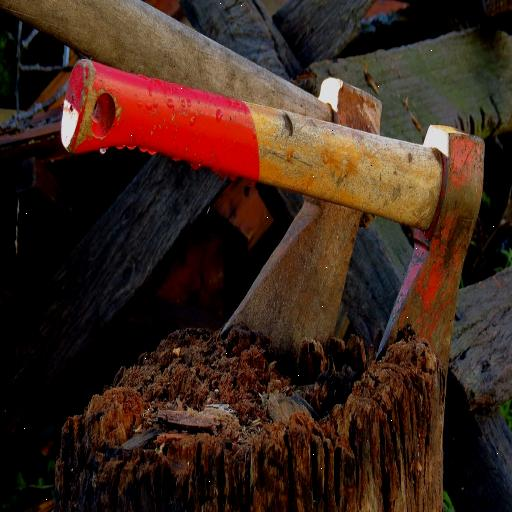Axe: (0, 0, 382, 372)
